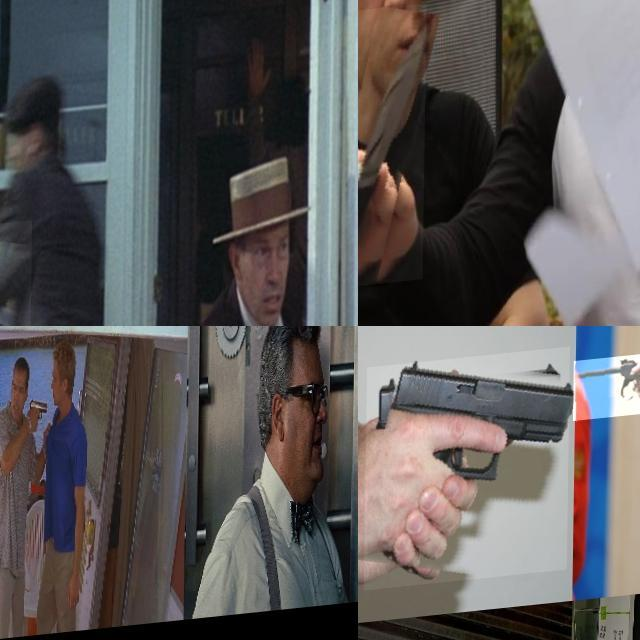-: (358, 7, 427, 290)
gun-knife-thesis - v11 Yolov5 augmented: (364, 353, 570, 592), (0, 224, 91, 326), (573, 359, 640, 428), (0, 326, 65, 359), (63, 326, 81, 401), (41, 326, 60, 392), (127, 326, 182, 348), (26, 391, 48, 437), (138, 326, 169, 344)
